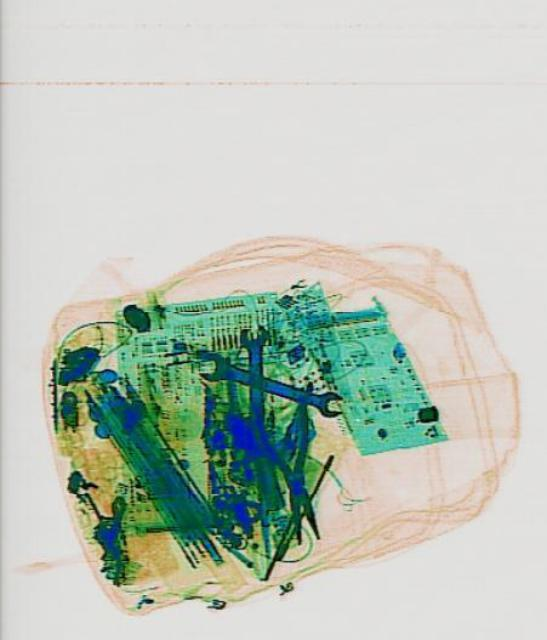Pliers: (251, 388, 332, 548)
Wrench: (194, 346, 343, 418), (236, 323, 277, 451)
